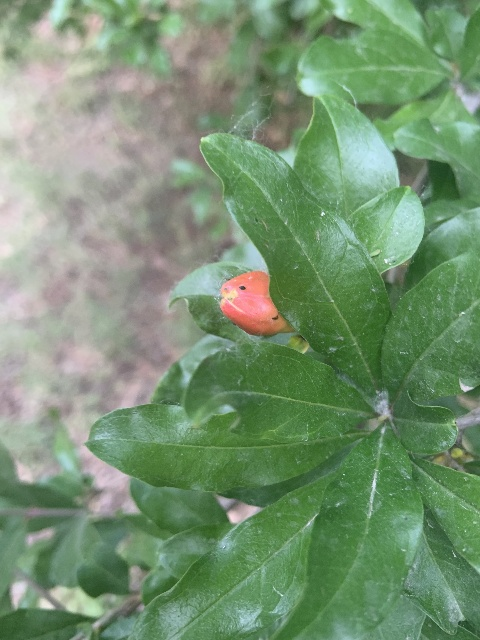bud: (219, 270, 292, 337)
